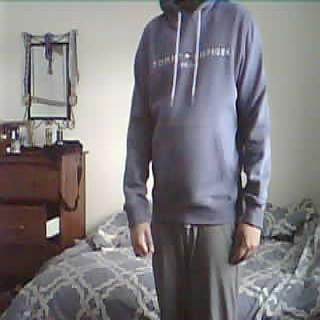Blue Hoodie: (125, 7, 278, 224)
Gray Sweatpants: (146, 216, 244, 320)
